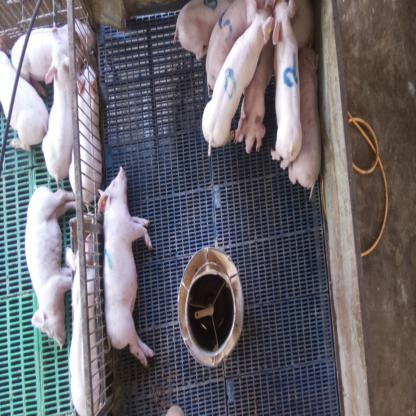2: (283, 52, 298, 88)
5: (217, 7, 232, 43)
N-A: (225, 67, 236, 98)
